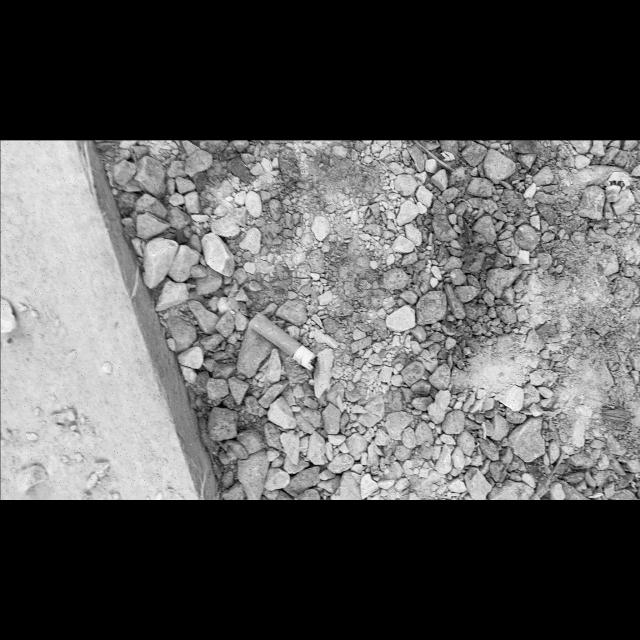cigarette: (246, 310, 318, 372)
